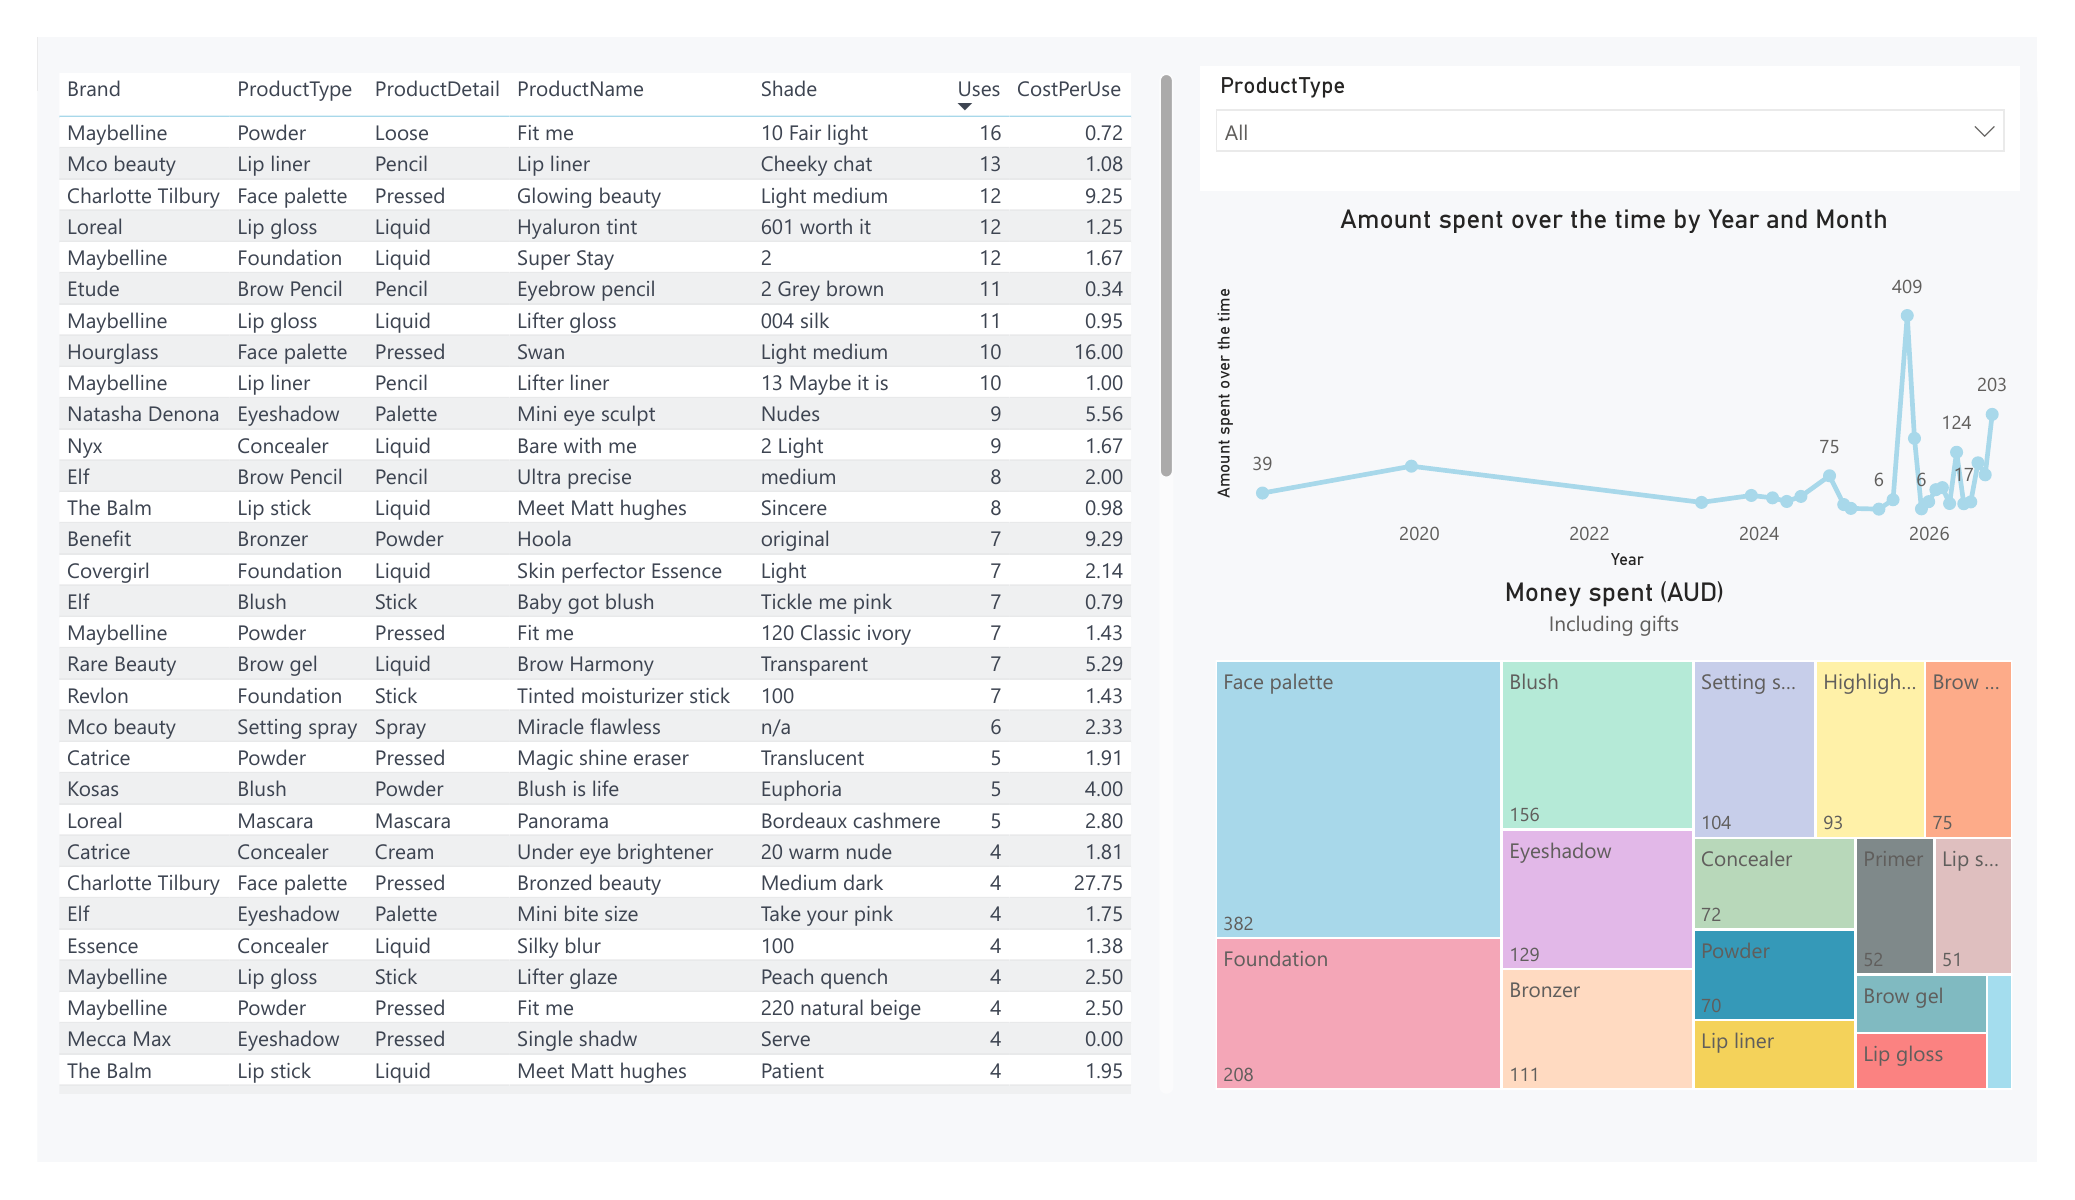

What the dashboard file says about the page in this screenshot:
{"tool":"powerbi","page":{"name":"Finances","canvas":[1280,720],"ordinal":1},"visuals":[{"type":"treemap","title":"Money spent (AUD)","fields":{"Group":["Products.ProductType"],"Values":["Sum(Products.PriceAUD)"]},"box":[531,345.2,737.9,333.1],"z":0},{"type":"tableEx","fields":{"Values":["Products.Brand","Products.ProductType","Products.ProductName","Sum(Usage log.UsesSeptember)","Products.CostPerUse"]},"box":[8.1,18.2,500.7,663.2],"z":1000},{"type":"lineChart","fields":{"Category":["Products.PurchaseDate.Variation.Date Hierarchy.Year","Products.PurchaseDate.Variation.Date Hierarchy.Month"],"Y":["Sum(Products.PriceAUD)"]},"box":[531,18.2,737.9,319],"z":2000}]}

Visuals, with their boxes on the page's 1280x720 design canvas (x1, y1, x2, y2). These are canvas units, not pixel positions in the 2075x1200 screenshot, which may show the page scaled, cropped or inside an application window:
"Money spent (AUD)" treemap: (x1=531, y1=345, x2=1269, y2=678)
tableEx - Products.Brand x Products.ProductType: (x1=8, y1=18, x2=509, y2=681)
lineChart - Products.PurchaseDate.Variation.Date Hierarchy.Year x Products.PurchaseDate.Variation.Date Hierarchy.Month: (x1=531, y1=18, x2=1269, y2=337)
